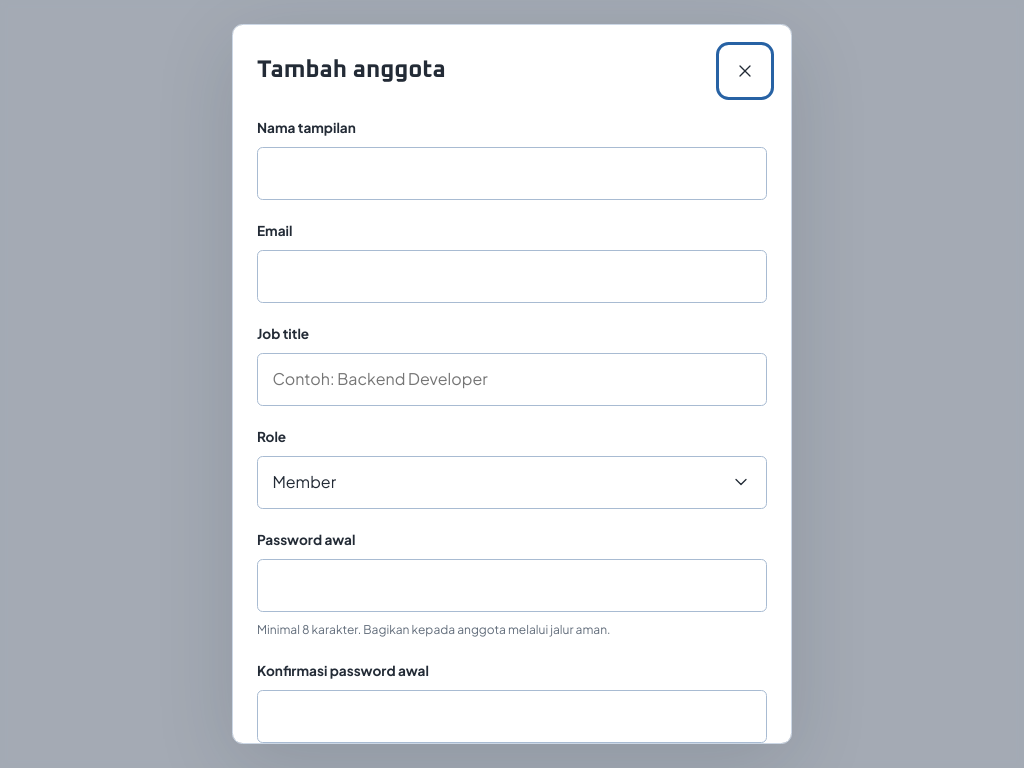
Scenario: AddMemberDialog › creates the member through the API and never echoes a password back
Type "Anggota Baru" into the field labelled "Nama tampilan" at (512, 173), box [257,147,767,200]
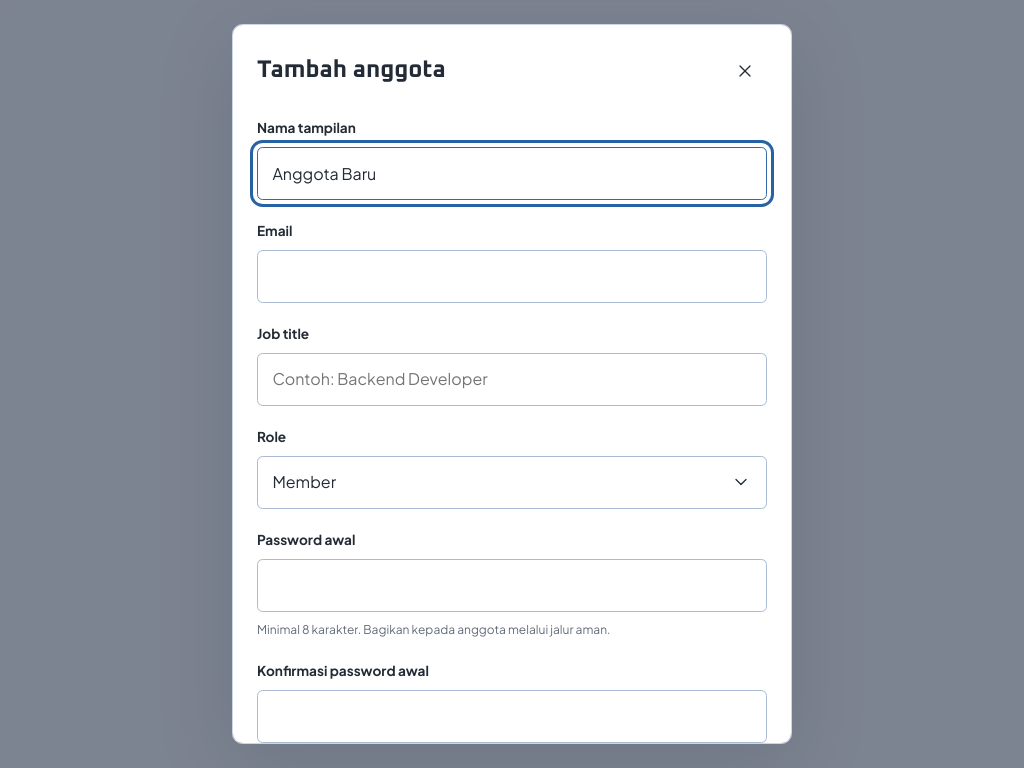
Type "baru@example.test" into the field labelled "Email" at (512, 276), box [257,250,767,303]
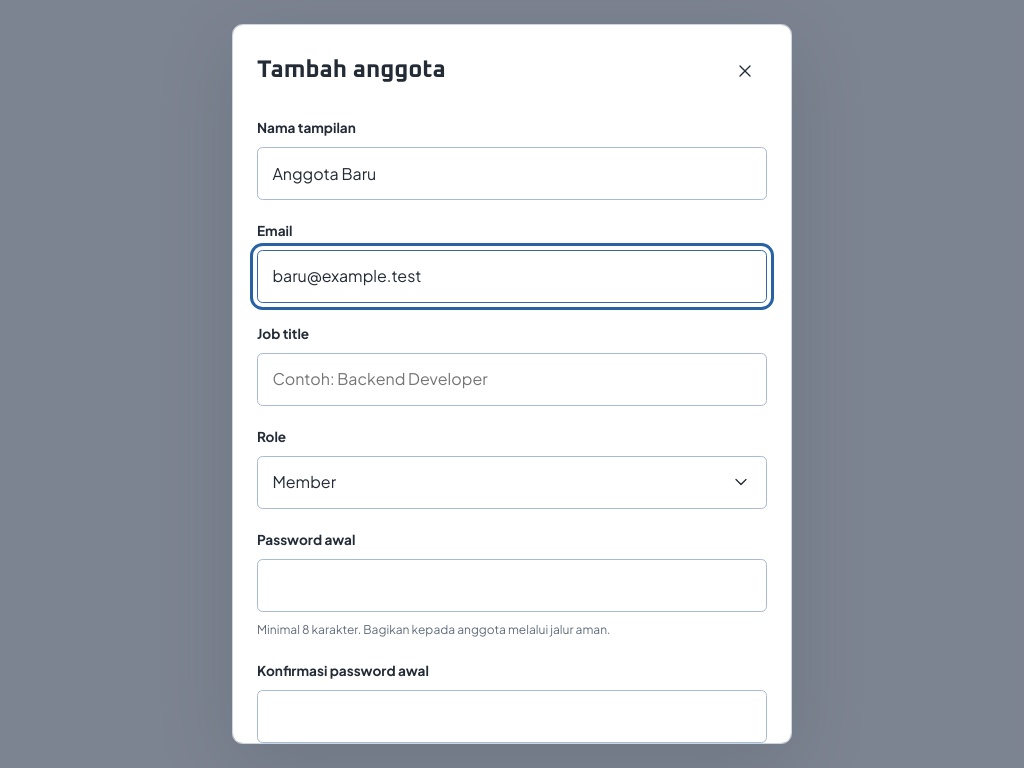
Type "rahasia123" into the password field labelled "Password awal" at (512, 585), box [257,558,767,612]
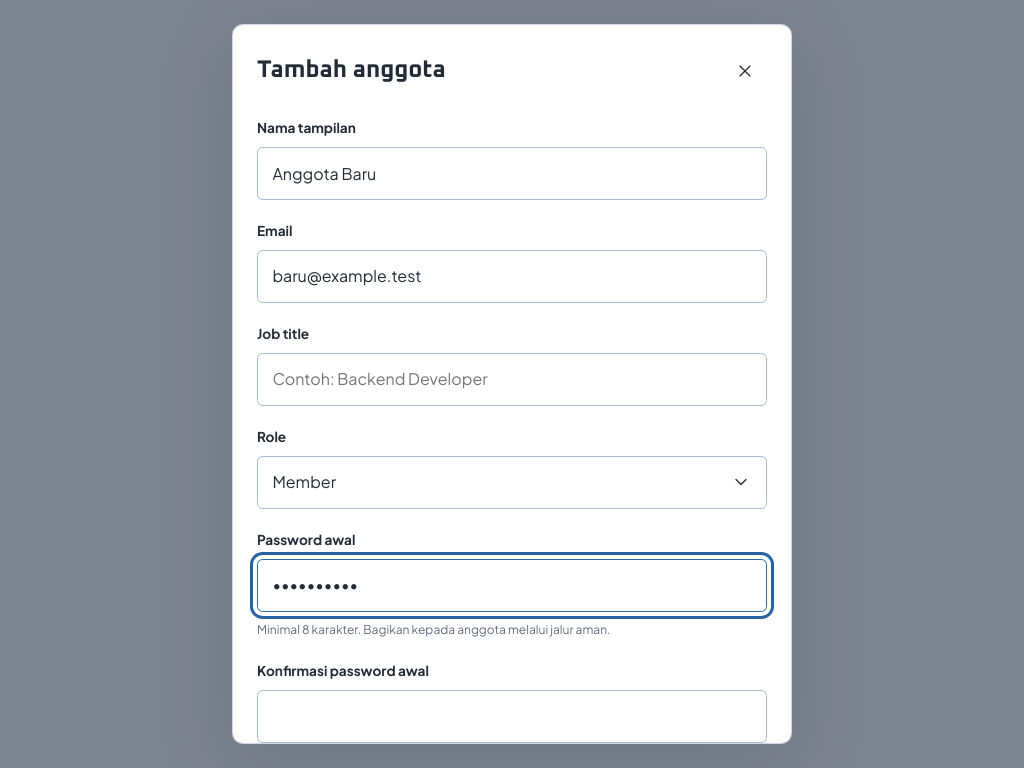
Type "rahasia123" into the password field labelled "Konfirmasi password awal" at (512, 716), box [257,690,767,743]
(page scrolled)
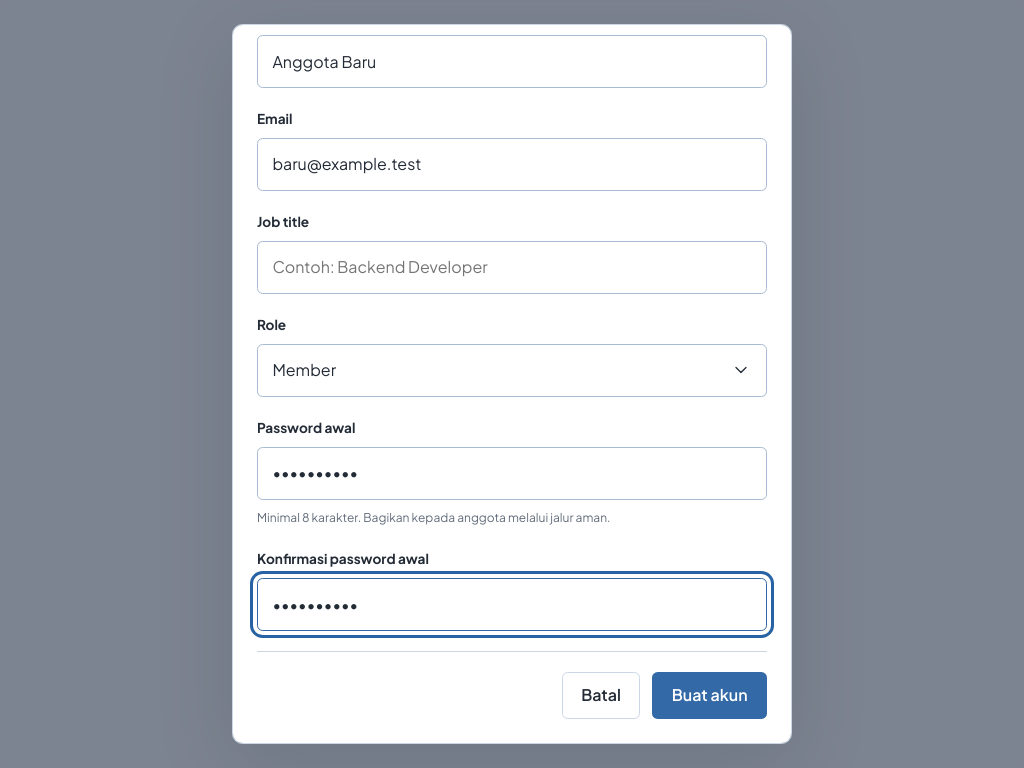
Click the button "Buat akun" at (710, 695), box [652,672,767,719]
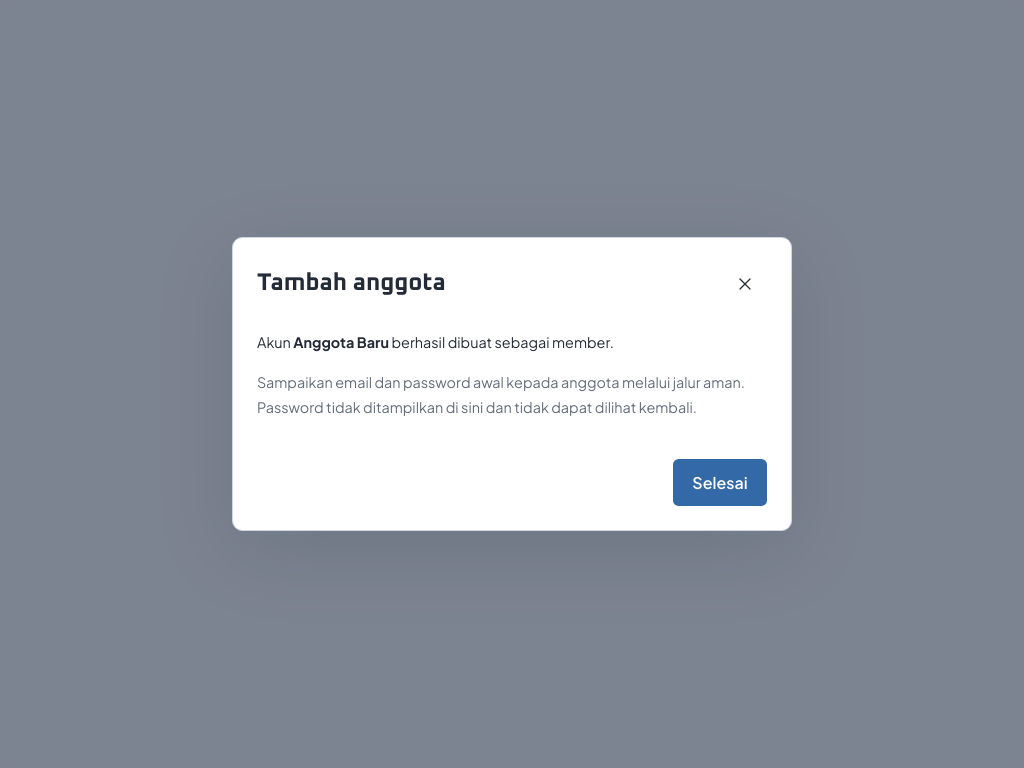
Result: the text "Akun Anggota Baru berhasil dibuat sebagai member." is shown at [257,333,614,351]
Result: the text "Password tidak ditampilkan di sini" is shown at [257,373,745,416]
